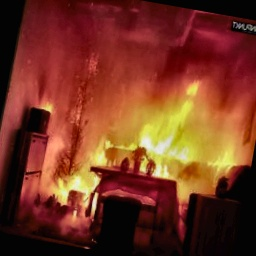fire: (64, 48, 256, 208)
